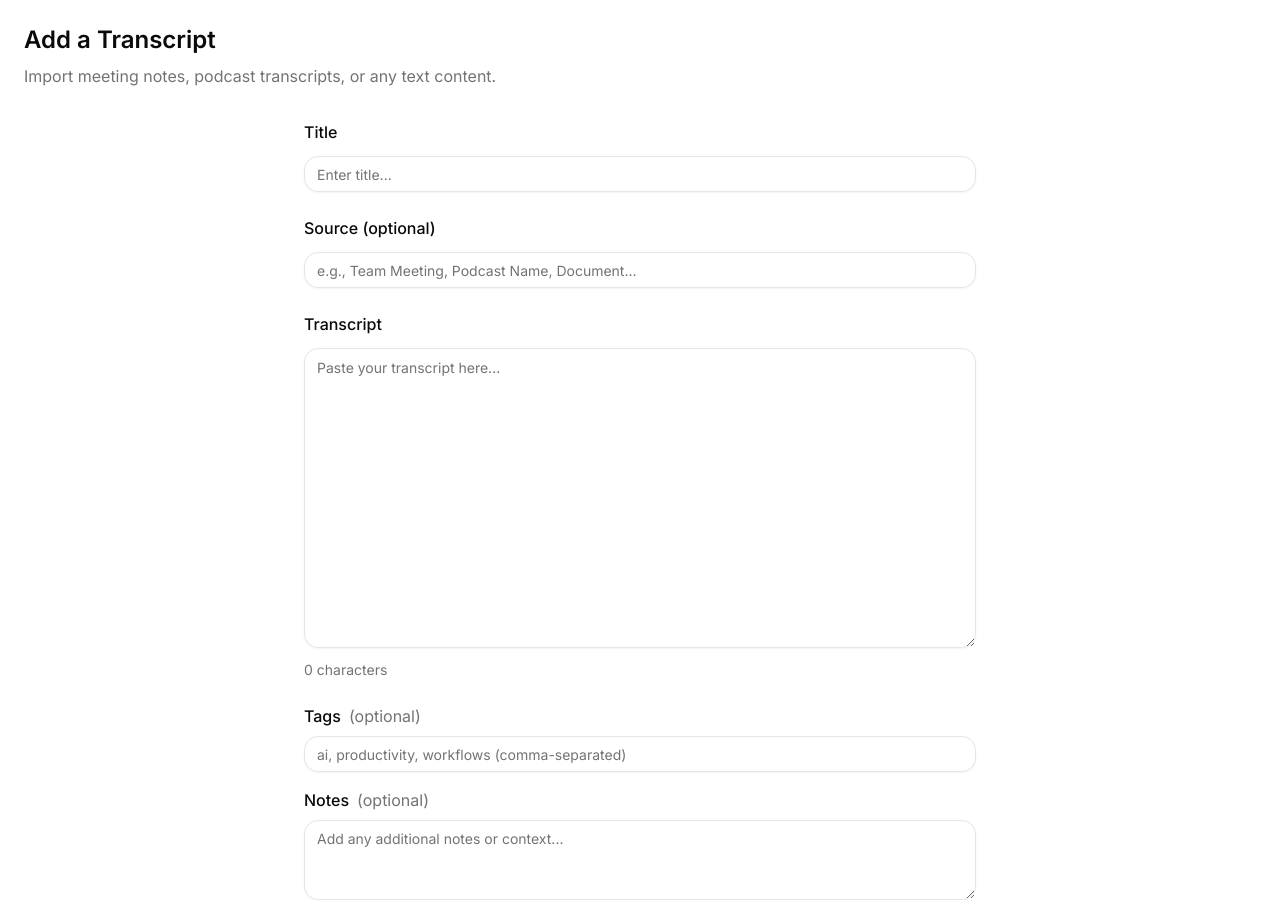
Test: AddTranscriptPage › shows error message on submission failure
The width and height of the screenshot is (1280, 900).
Type "Test Title" into the field labelled "Title" at (640, 174), box 304,156 -> 976,192
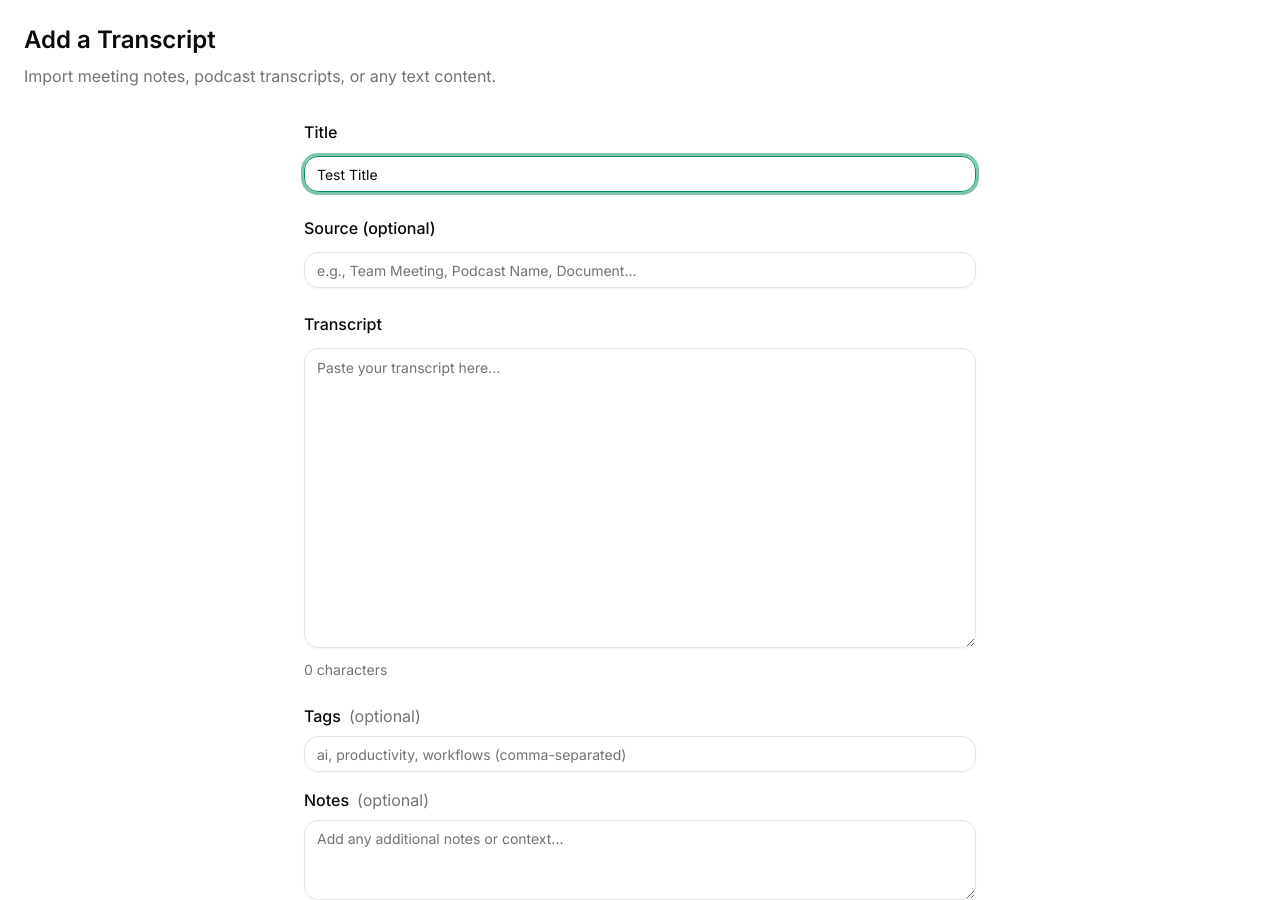
Type "Test Source" into the field labelled "Source (optional)" at (640, 270), box 304,252 -> 976,288
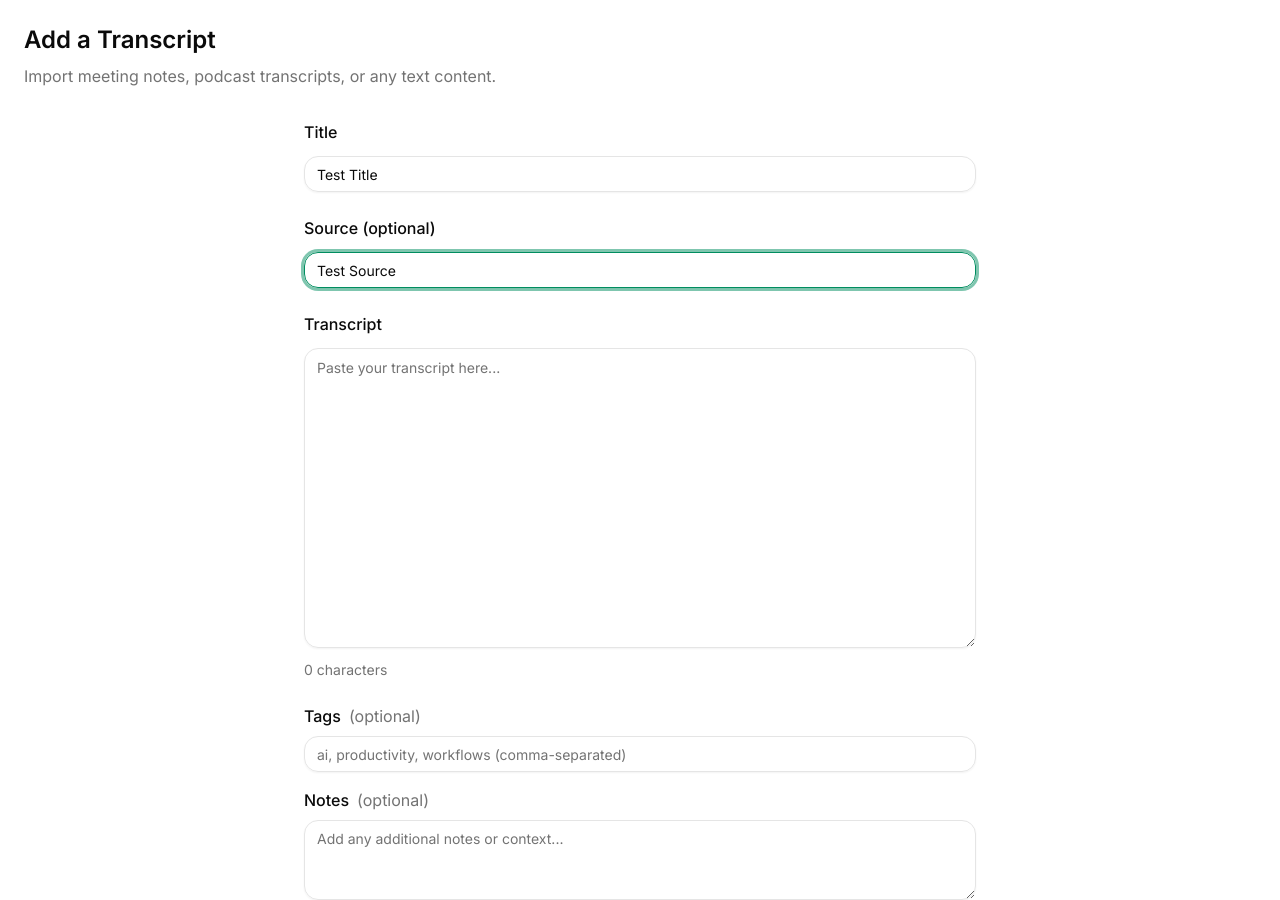
Type "This is a long enough transcript content that meets the minimum requirement" into the text box labelled "Transcript" at (640, 498), box 304,348 -> 976,648
(page scrolled)
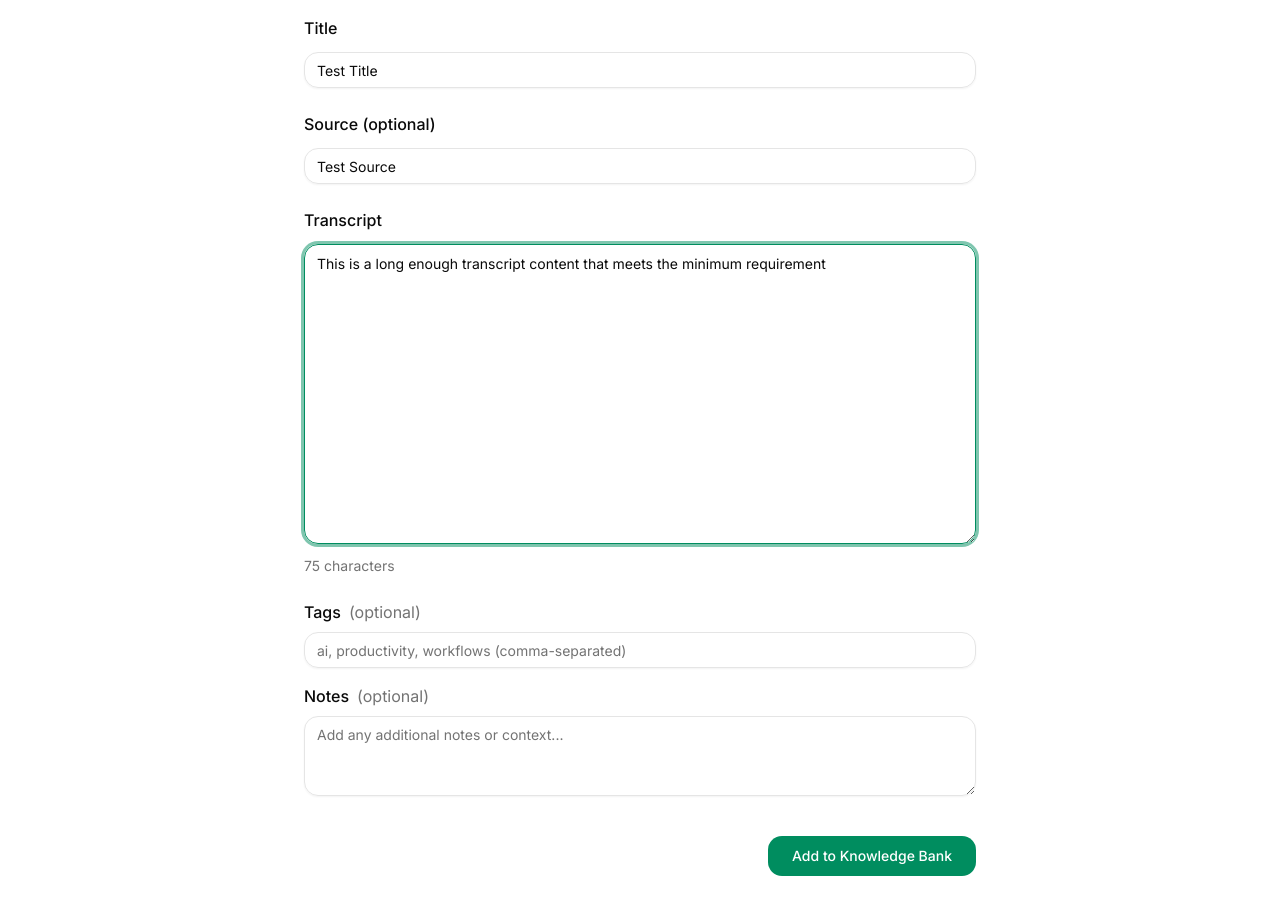
Click the button "Add to Knowledge Bank" at (872, 856), box 768,836 -> 976,876
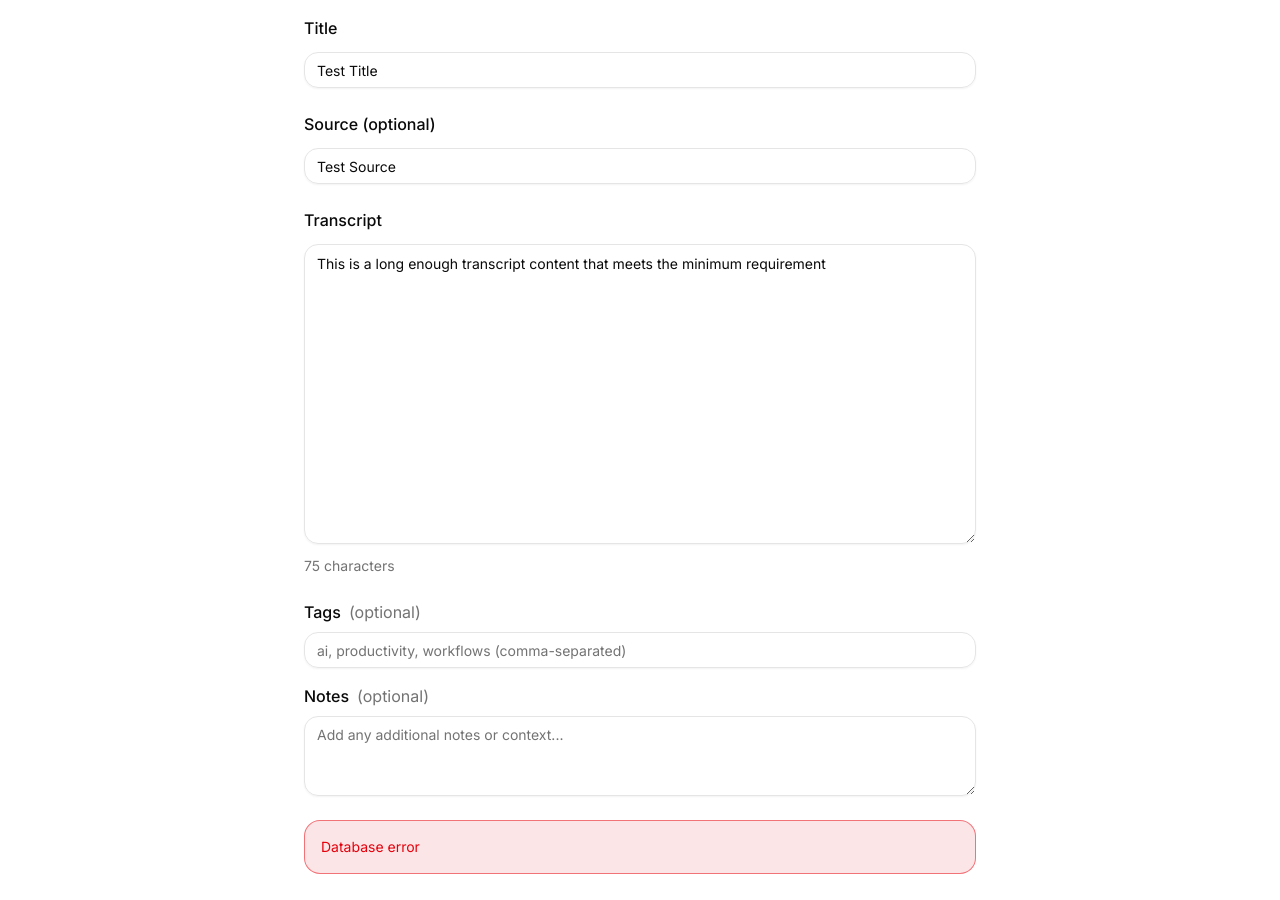
Now the text "Database error" is shown, box 321,838 -> 420,855
